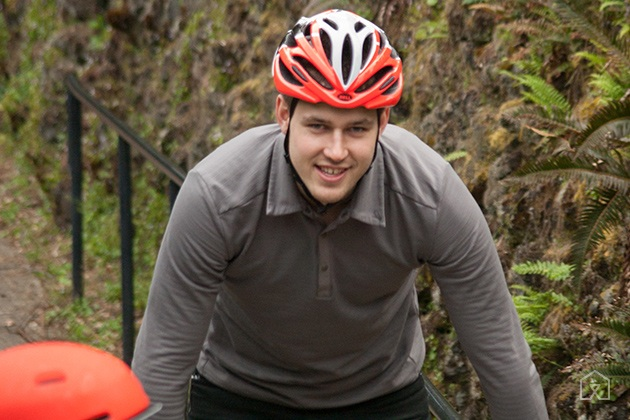with_helmet: (269, 9, 404, 114)
